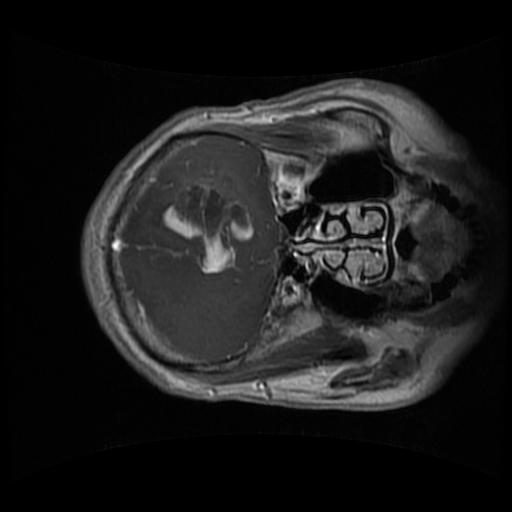glioma: (152, 180, 251, 276)
